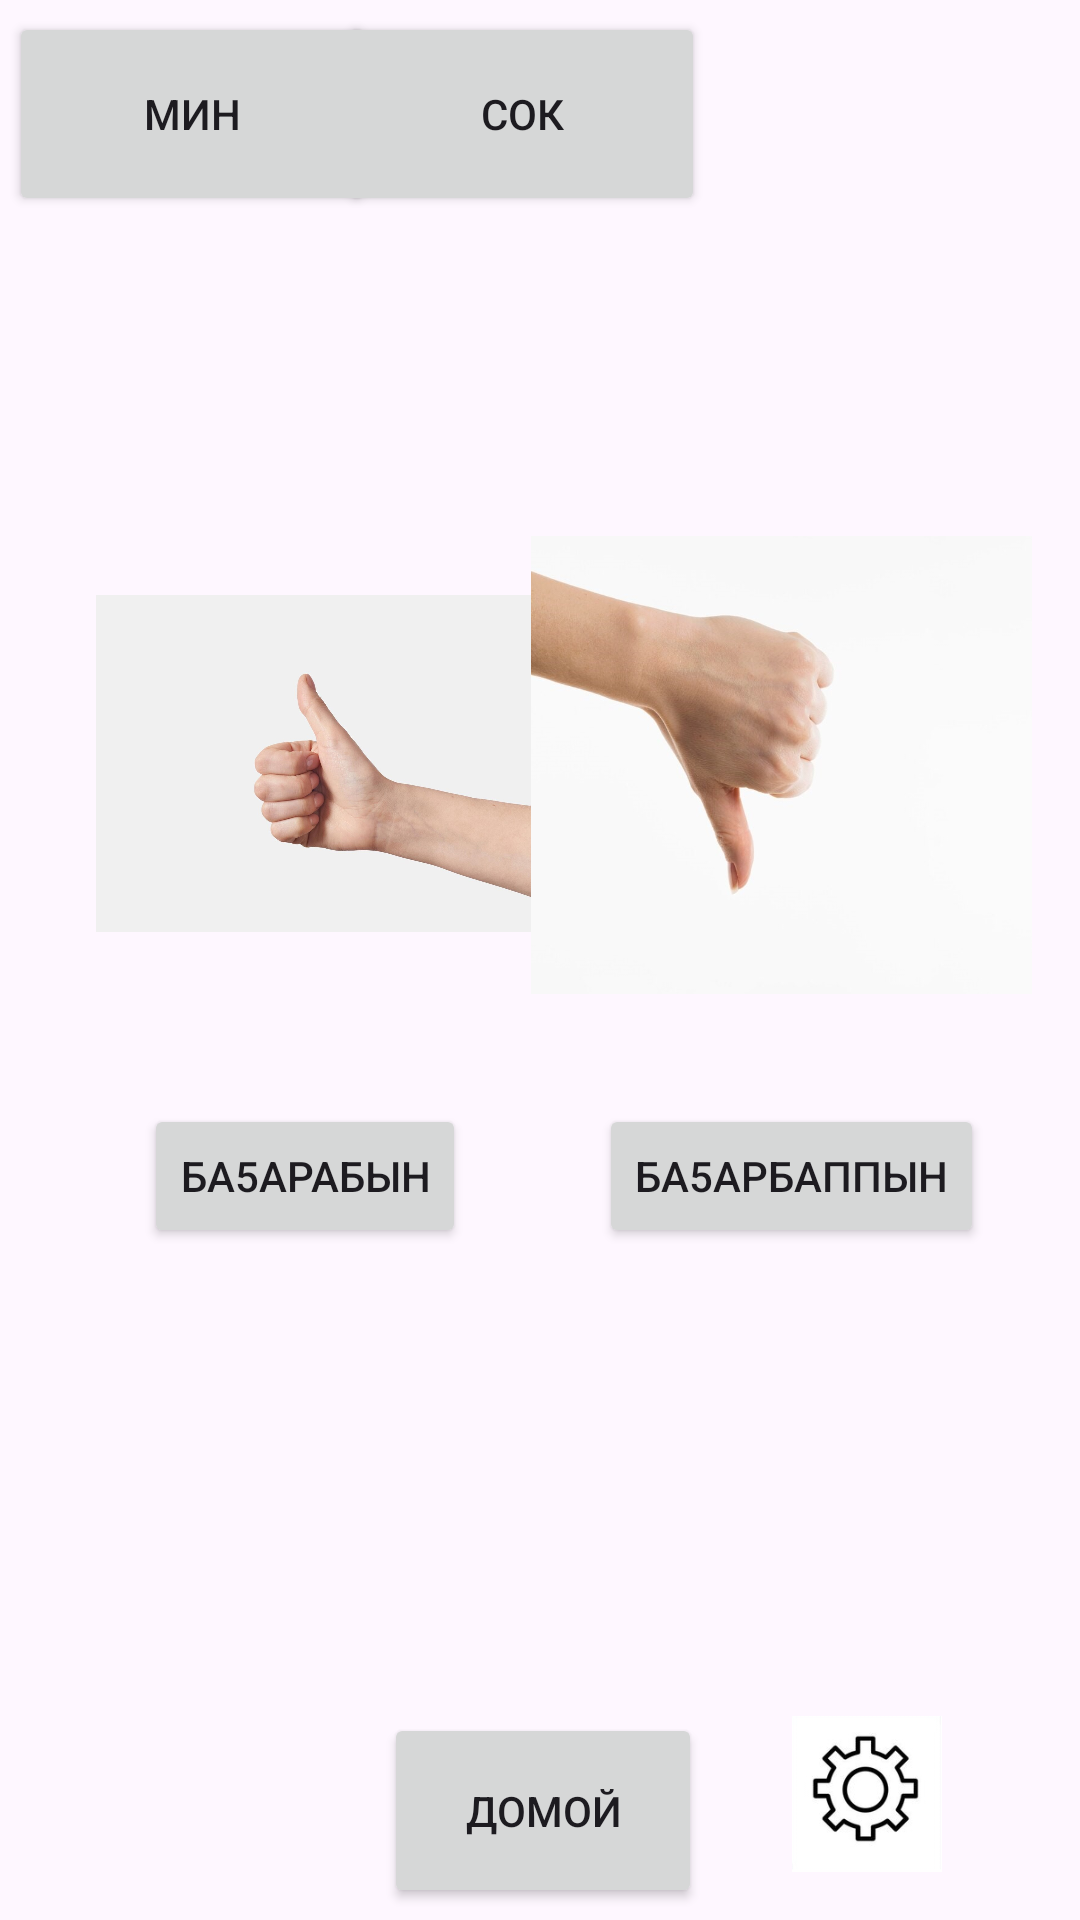

Screen size 1080px x 1920px. Icon name, then its box in pixels as (x1, y1, x2, y2):
settings: (812, 1736, 919, 1842)
wantnt: (531, 571, 833, 894)
